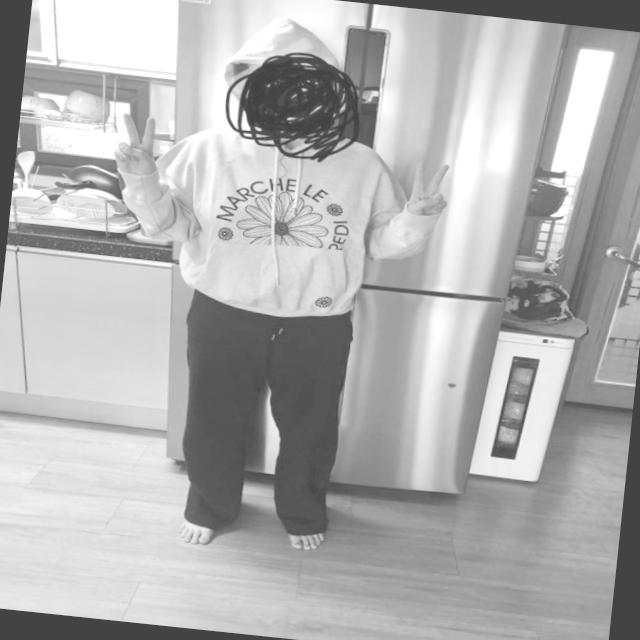hoodies: (105, 1, 451, 330)
trainingpants: (164, 287, 356, 546)
